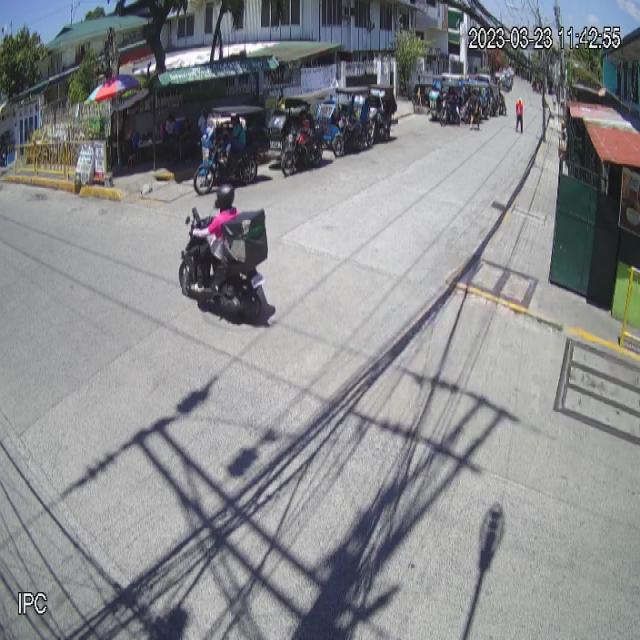Motorcycle: (178, 206, 268, 325)
